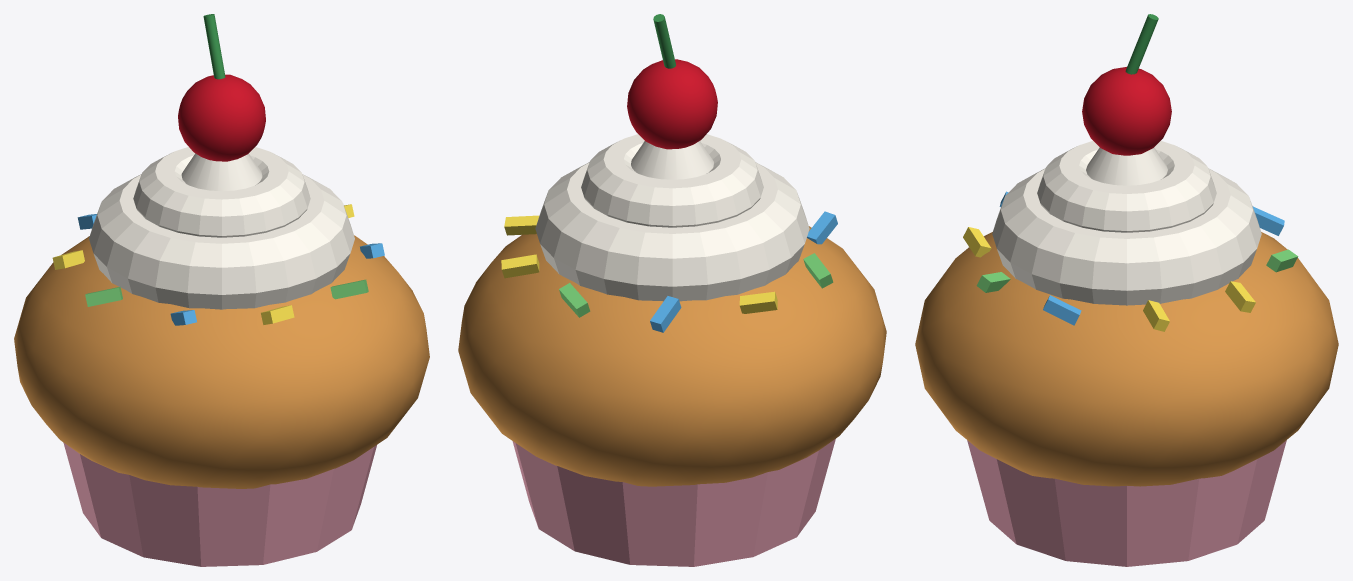
The model's file is Bakery_L7.fbx.
The picture shows the model from 3 angles, left to right: view 1: azimuth 30°, elevation 25°; view 2: azimuth 150°, elevation 25°; view 3: azimuth 270°, elevation 25°; orthographic projection. The views are drawn at different scales.
Visible parts, largest first — view 1: B7_Muffin, B7_Liner, B7_Whip1, B7_Whip2, B7_Cherry, B7_WhipTip, B7_CherryStem, B7_Sprinkle; view 2: B7_Muffin, B7_Liner, B7_Whip1, B7_Whip2, B7_Cherry, B7_Sprinkle (×7), B7_WhipTip, B7_CherryStem; view 3: B7_Muffin, B7_Liner, B7_Whip1, B7_Whip2, B7_Cherry, B7_WhipTip, B7_Sprinkle (×4), B7_CherryStem.
Boxes of the visible parts, box(x1,y1,x2,y2) form: B7_Muffin: box(14, 235, 429, 488); B7_Liner: box(63, 442, 376, 566); B7_Whip1: box(89, 174, 354, 309); B7_Whip2: box(133, 147, 310, 237); B7_Cherry: box(178, 74, 265, 161); B7_WhipTip: box(181, 153, 262, 191); B7_CherryStem: box(203, 14, 225, 79); B7_Sprinkle: box(330, 279, 368, 299); B7_Muffin: box(458, 226, 886, 486); B7_Liner: box(512, 439, 835, 566); B7_Whip1: box(535, 162, 809, 301); B7_Whip2: box(581, 134, 763, 227); B7_Cherry: box(627, 59, 717, 149); B7_Sprinkle (×7): box(501, 211, 837, 332); B7_WhipTip: box(631, 141, 713, 179); B7_CherryStem: box(653, 14, 675, 68); B7_Muffin: box(915, 232, 1338, 486); B7_Liner: box(967, 440, 1286, 566); B7_Whip1: box(992, 168, 1261, 305); B7_Whip2: box(1037, 141, 1216, 232); B7_Cherry: box(1082, 67, 1171, 155); B7_WhipTip: box(1086, 147, 1167, 185); B7_Sprinkle (×4): box(963, 227, 1255, 331); B7_CherryStem: box(1125, 14, 1158, 74).
Size of the model in its own units: 13.2 by 16.91 by 13.2.
